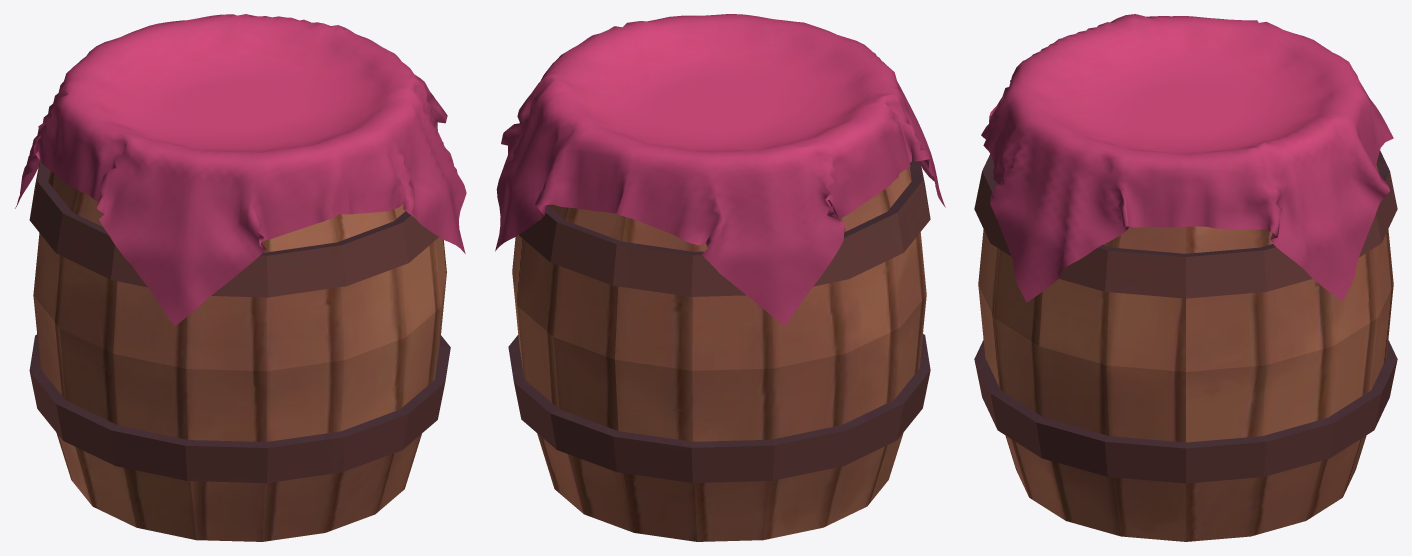
File: barrel.glb
3 views of the same model, side by side, from view 1: azimuth 30°, elevation 25°; view 2: azimuth 150°, elevation 25°; view 3: azimuth 270°, elevation 25° (orthographic).
Visible parts, largest first — view 1: T_Bois; view 2: T_Bois; view 3: T_Bois.
Part boxes in pixels (x1,y1,x2,y2): T_Bois: (15, 14, 466, 541); T_Bois: (495, 14, 945, 541); T_Bois: (974, 14, 1397, 541).
Size of what is drawn, in the model's own units: 1.38 by 1.39 by 1.38.
1 material, 1 textured.
